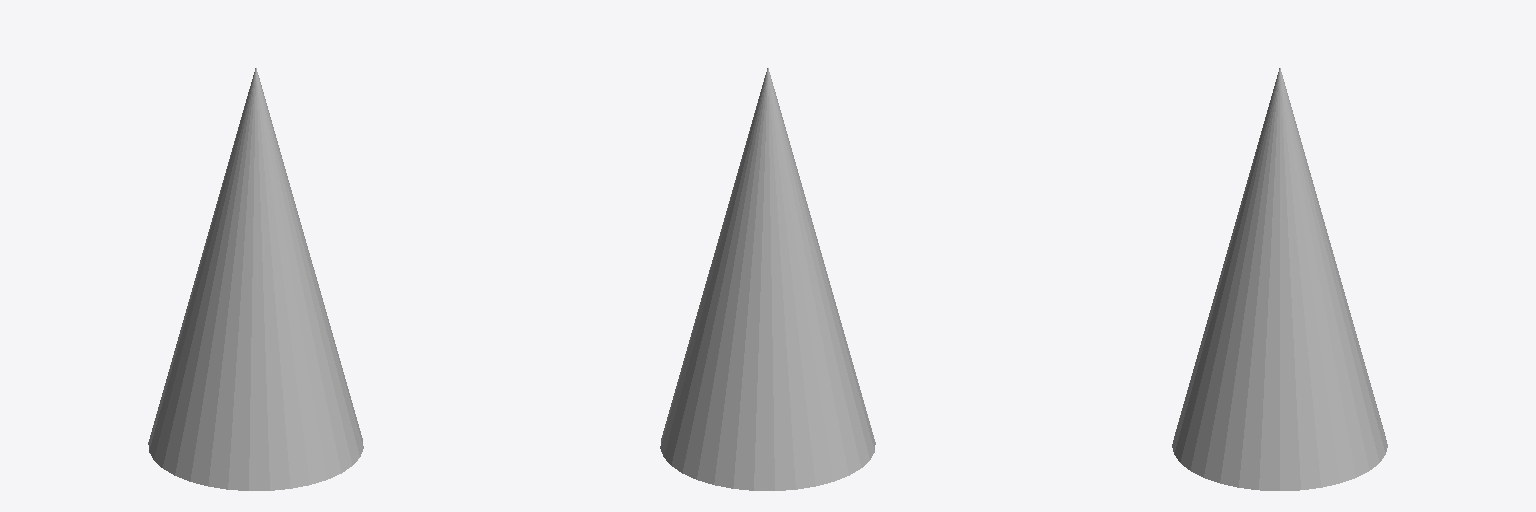
File: bishopcircle.obj
3 renders of one model, left to right at view 1: azimuth 30°, elevation 25°; view 2: azimuth 150°, elevation 25°; view 3: azimuth 270°, elevation 25°, orthographic.
Visible parts, largest first — view 1: Cone; view 2: Cone; view 3: Cone.
Boxes of the visible parts, box(x1,y1,x2,y2) form: Cone: box(148, 68, 363, 490); Cone: box(660, 68, 875, 490); Cone: box(1172, 68, 1387, 490).
Size of the model in its own units: 2.42 by 4.7 by 2.42.